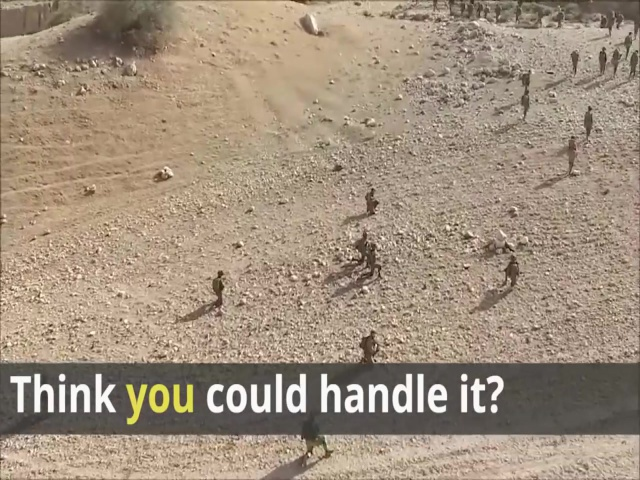person: (361, 242, 385, 280), (358, 329, 380, 362), (503, 254, 521, 288), (362, 185, 381, 217), (211, 270, 225, 311), (356, 230, 368, 270), (565, 136, 577, 174), (582, 104, 593, 140), (628, 49, 640, 78), (520, 90, 530, 122), (596, 47, 607, 76), (520, 69, 533, 92), (611, 45, 620, 78), (569, 50, 580, 75), (557, 5, 566, 30), (624, 32, 634, 53), (607, 15, 615, 38)
